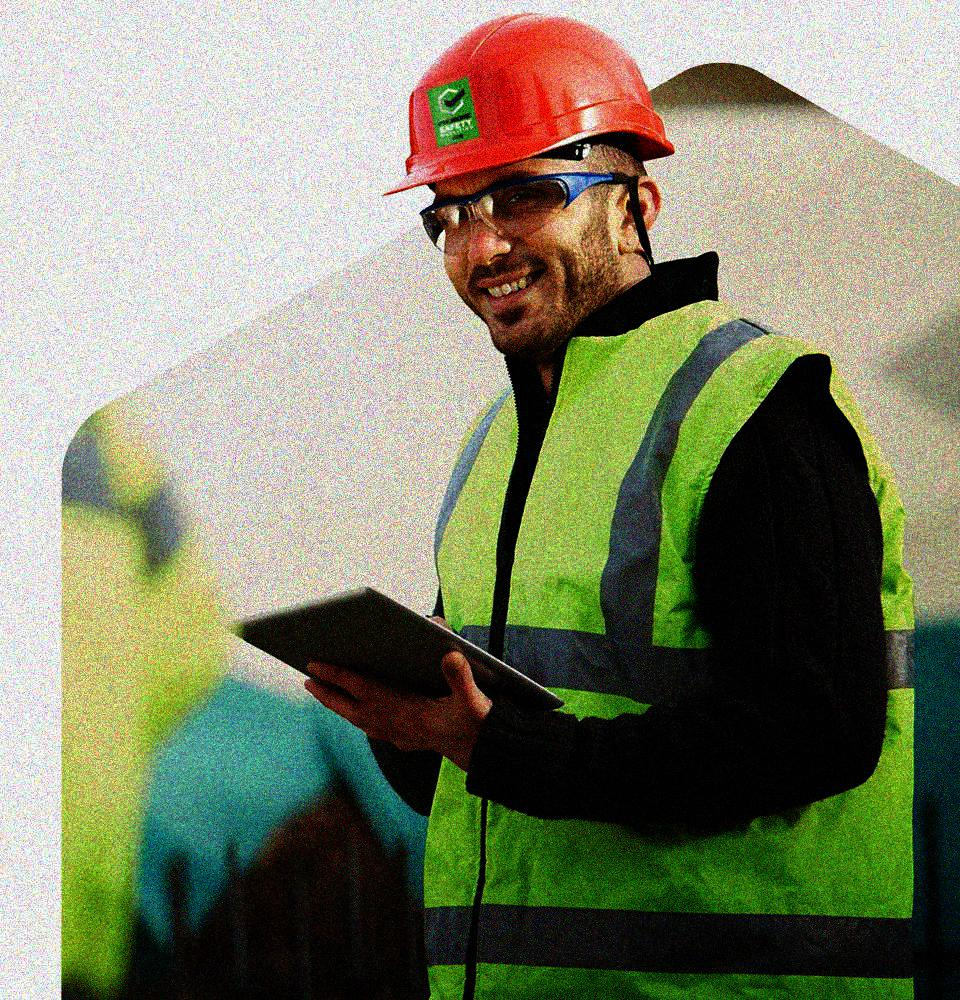helmet: (385, 5, 676, 364)
